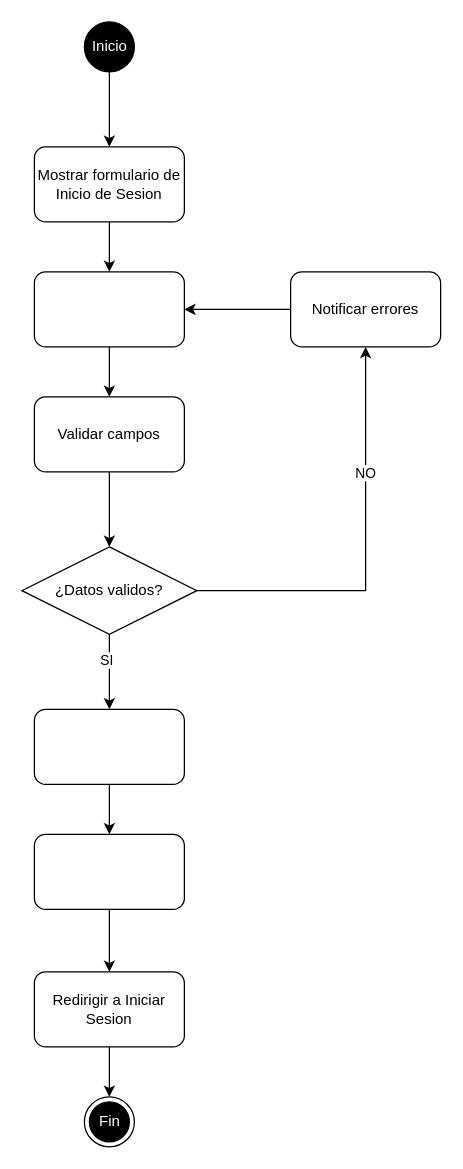
This 463x1169 diagram has some shape labels left out. Each missing label, with the centre of its shape:
Completar email y contraseña: the point at 108,309
Obtener rol del usuario: the point at 108,746
Redirigir a la vista correspondiente: the point at 108,871
